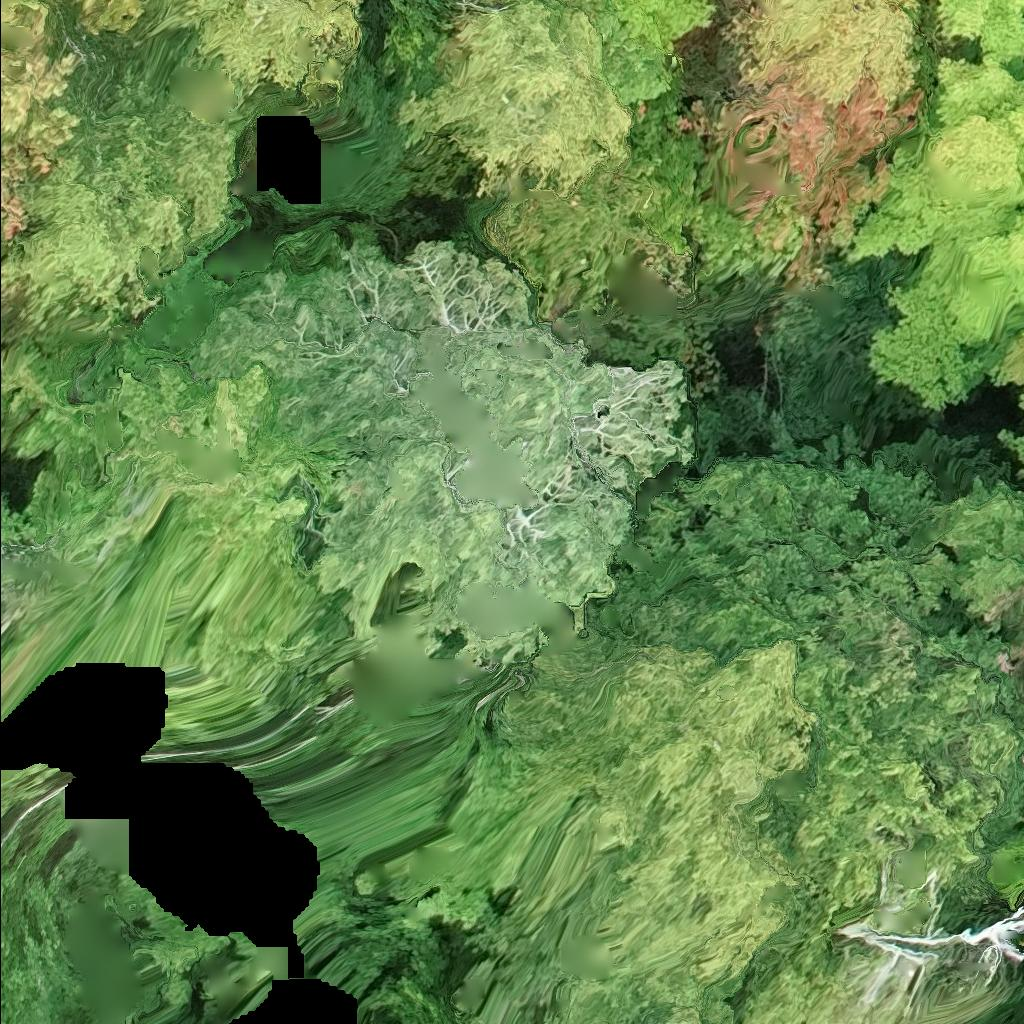crown: (848, 0, 1023, 412)
